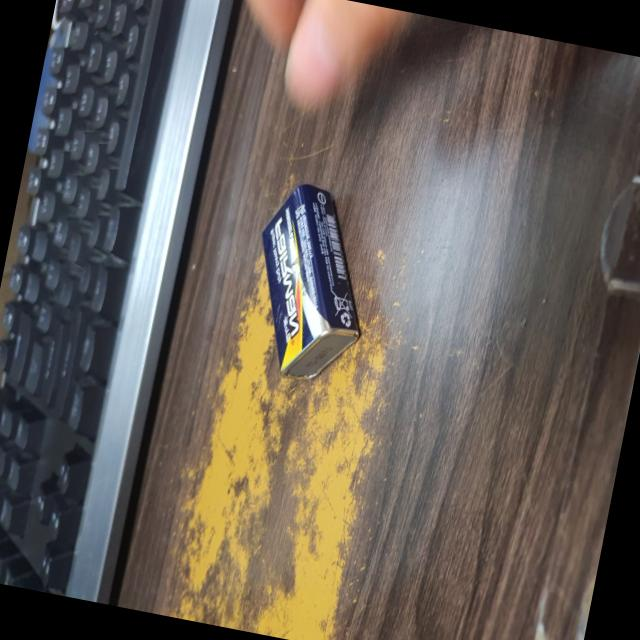battery-etc-etc: (228, 172, 395, 404)
